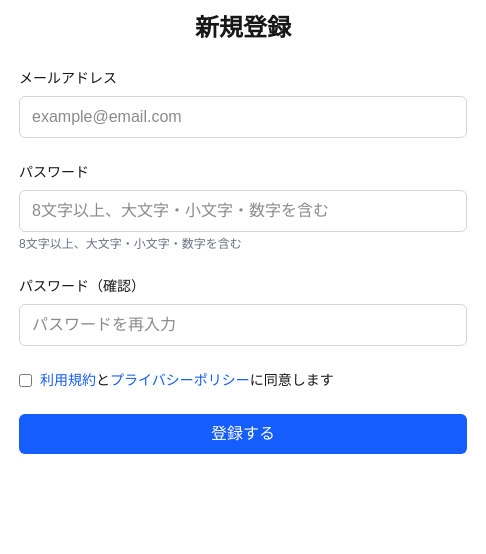
Test case: SignUpForm › パスワードバリデーション › 大文字が含まれていない場合エラーが表示されること
The image size is (486, 554).
Type "test@example.com" into the field labelled "メールアドレス" at [243, 117], box left=19, top=96, right=467, bottom=138
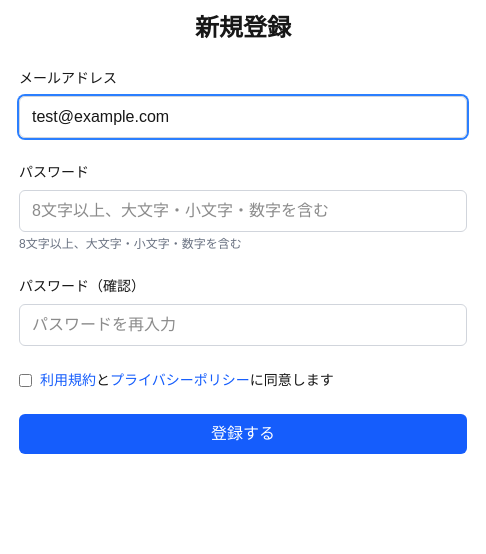
Type "password123" into the password field labelled "パスワード" at [243, 211], box left=19, top=190, right=467, bottom=232
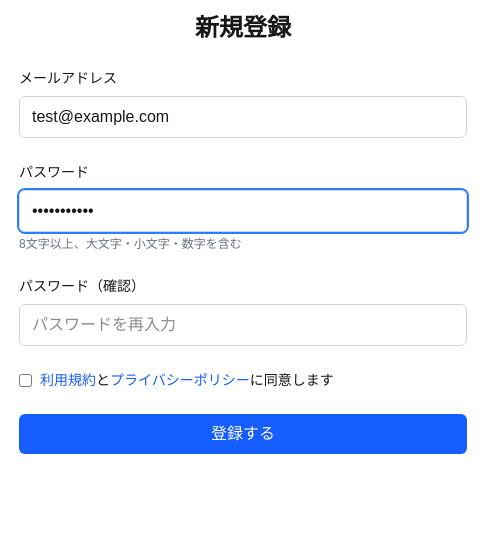
Type "password123" into the password field labelled "パスワード（確認）" at [243, 325], box left=19, top=304, right=467, bottom=346
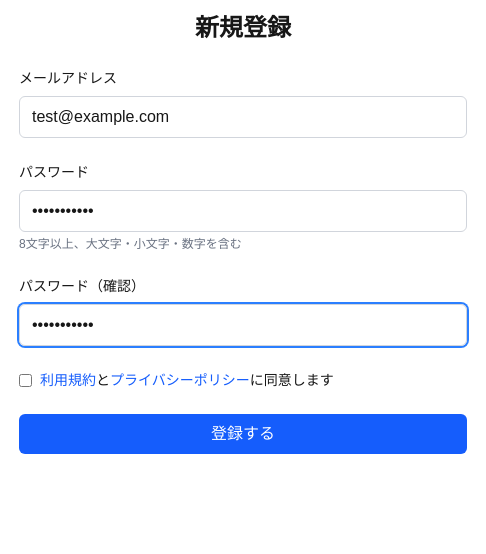
Click the checkbox at [26, 380], box left=19, top=374, right=32, bottom=387
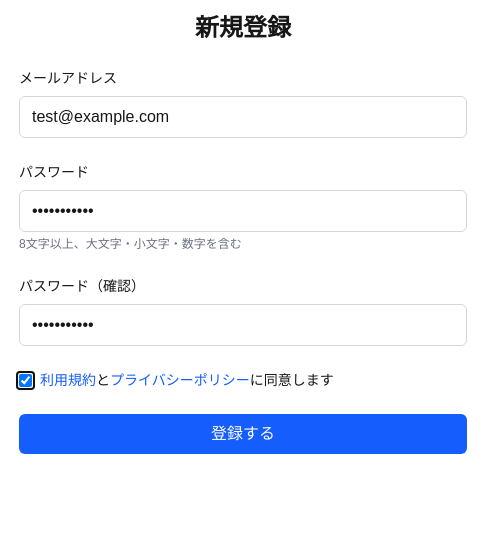
Click the button "登録する" at [243, 434], box left=19, top=414, right=467, bottom=454
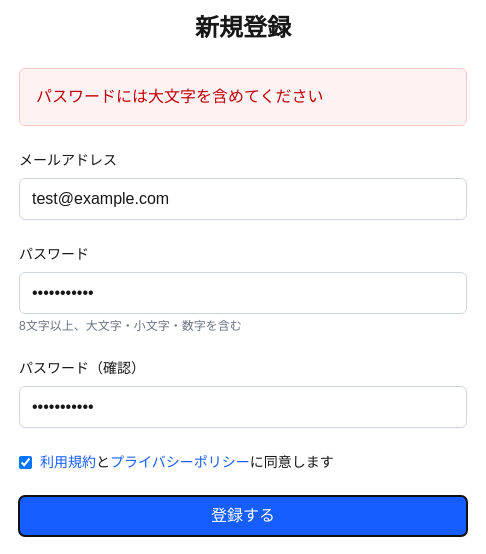
Now the text "パスワードには大文字を含めてください" is shown, box left=19, top=68, right=467, bottom=126
